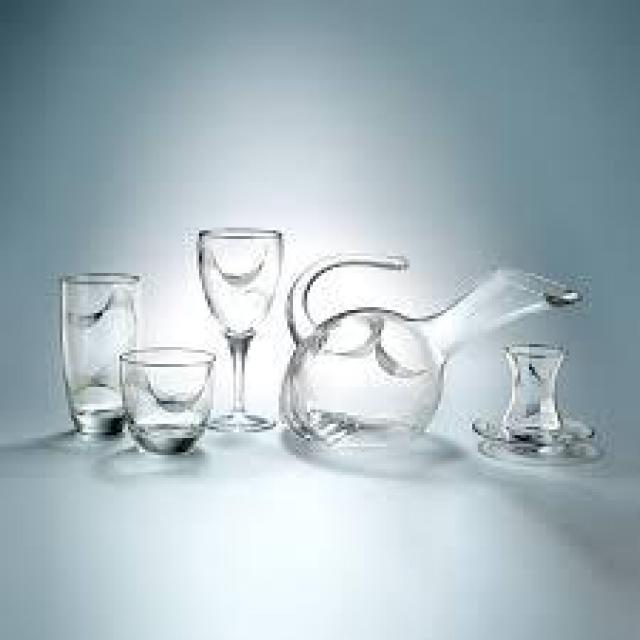non-organic waste: (276, 249, 586, 448), (192, 222, 283, 435), (466, 347, 594, 447), (122, 344, 219, 461)
